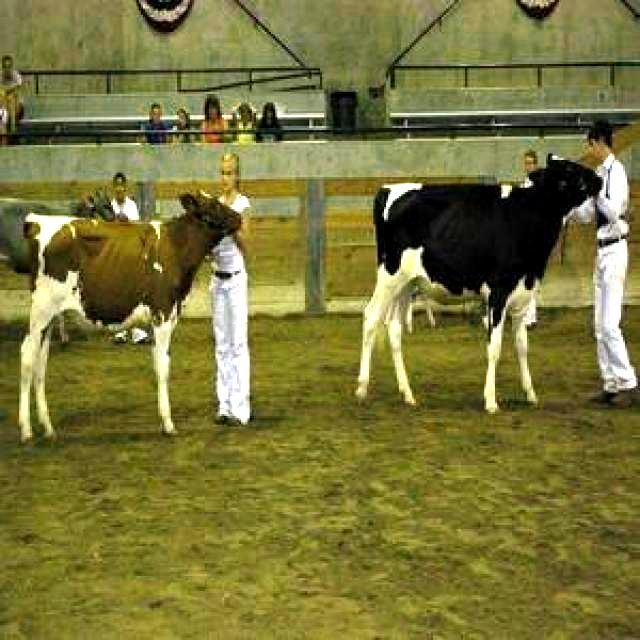COW: (358, 161, 601, 412), (19, 194, 241, 442)
